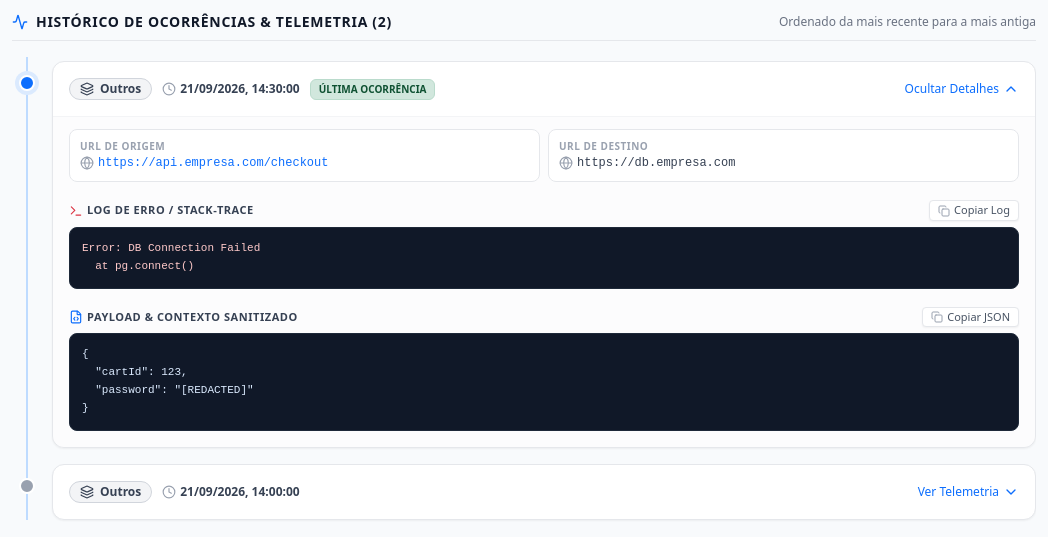
it: components/suporte/OccurrenceTimeline › should toggle expand and collapse of occurrence details
Expected: the text "Log de Erro / Stack-Trace" is shown, [69,203,254,218]
Click the button "Ocultar Detalhes".
click(962, 89)  # box [905,81,1019,97]
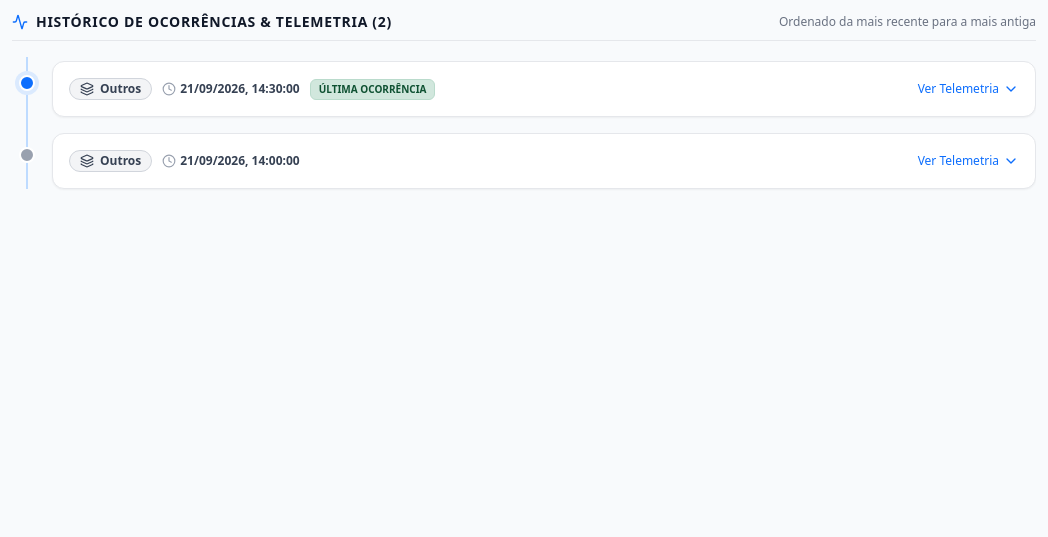
Expected: the text "Log de Erro / Stack-Trace" is gone
